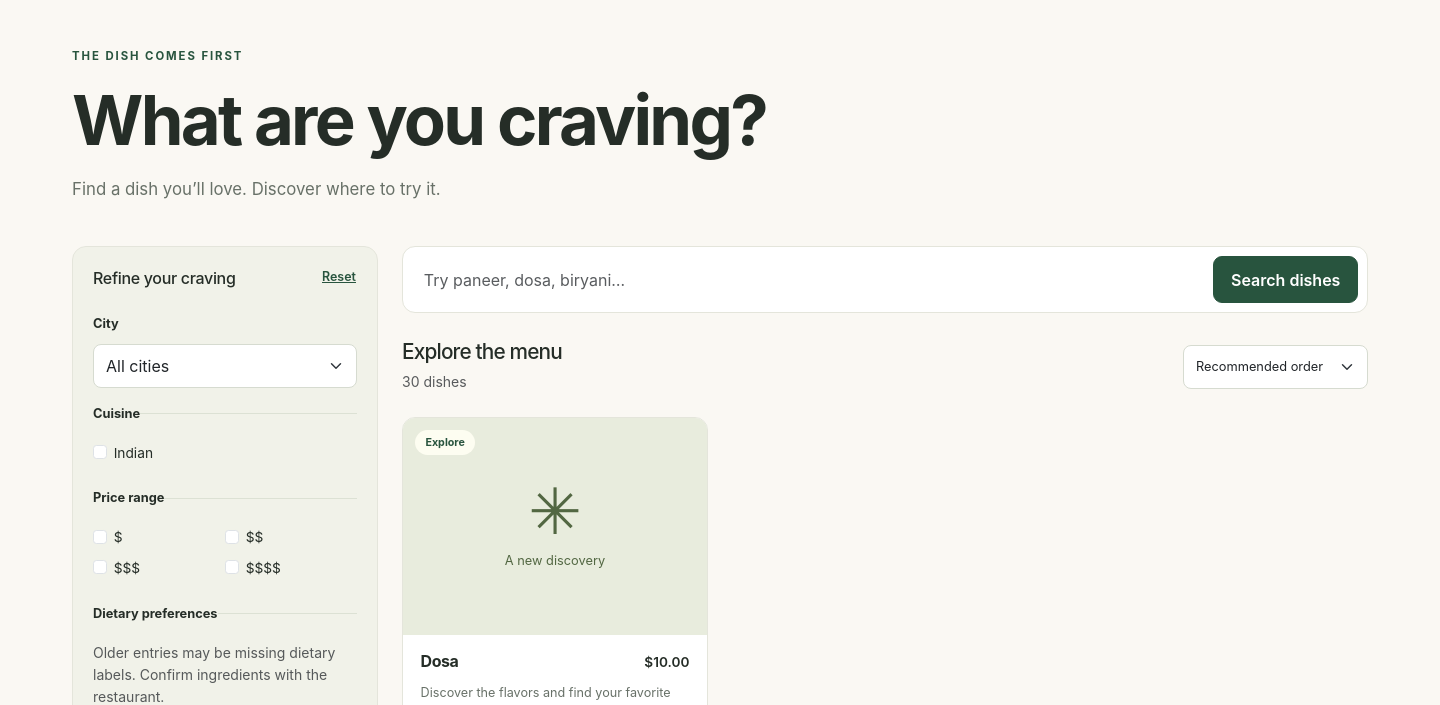
search and filters persist while paginating
Later steps or results of the test are not shown.
expect the heading "Dosa" is shown: met, box [421,652,458,671]
In the field named "Search dishes": (807, 280) [412,256,1202,303], type "dosa"
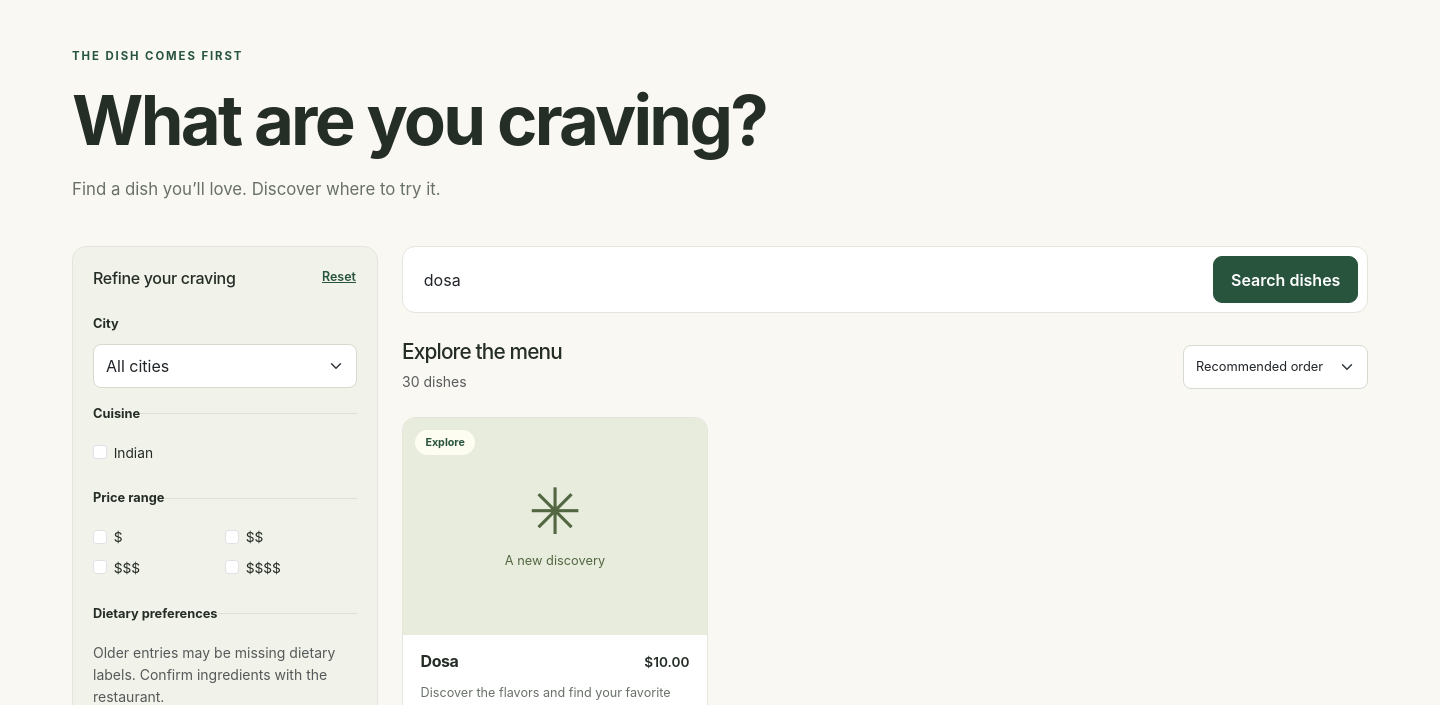
Click the button "Search dishes": (1286, 280) [1213,256,1358,303]
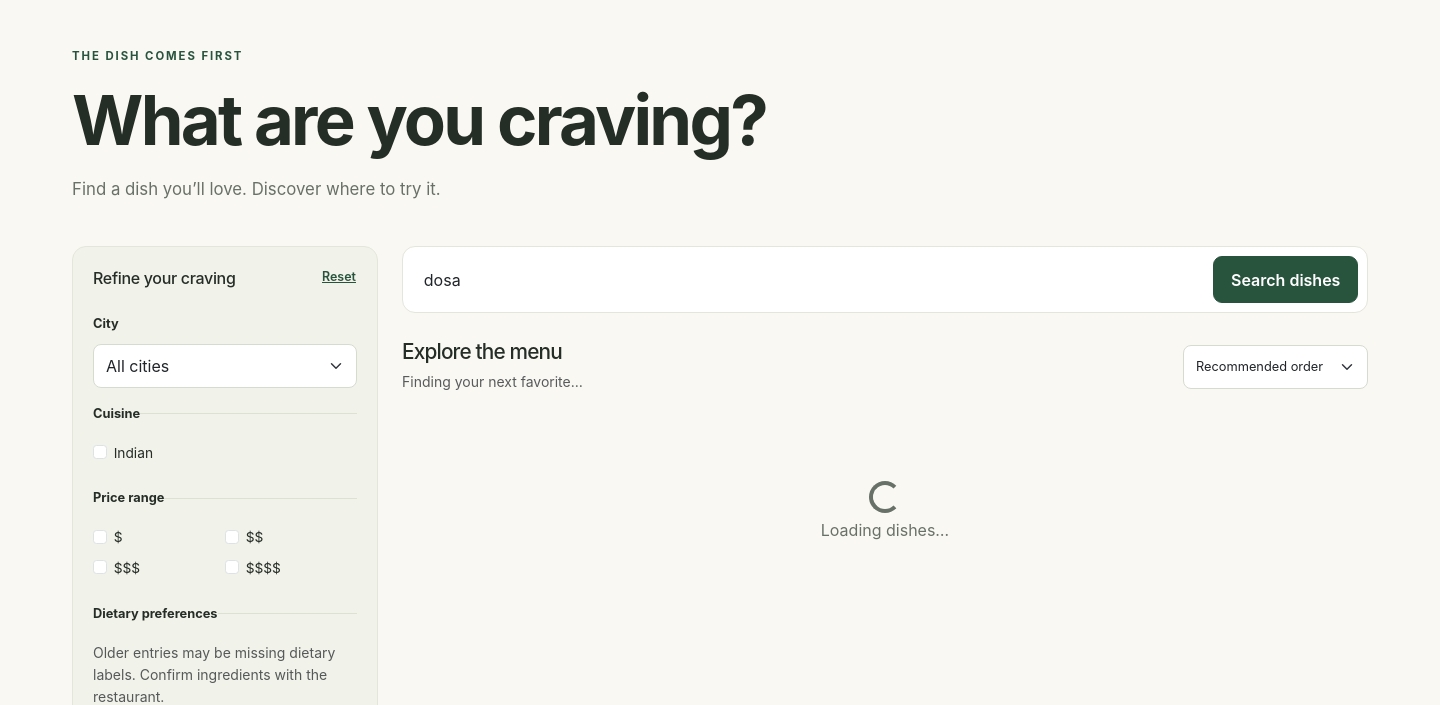
Select "Seattle" in the dropdown labelled "City": (225, 366) [93,344,357,388]
(page scrolled)
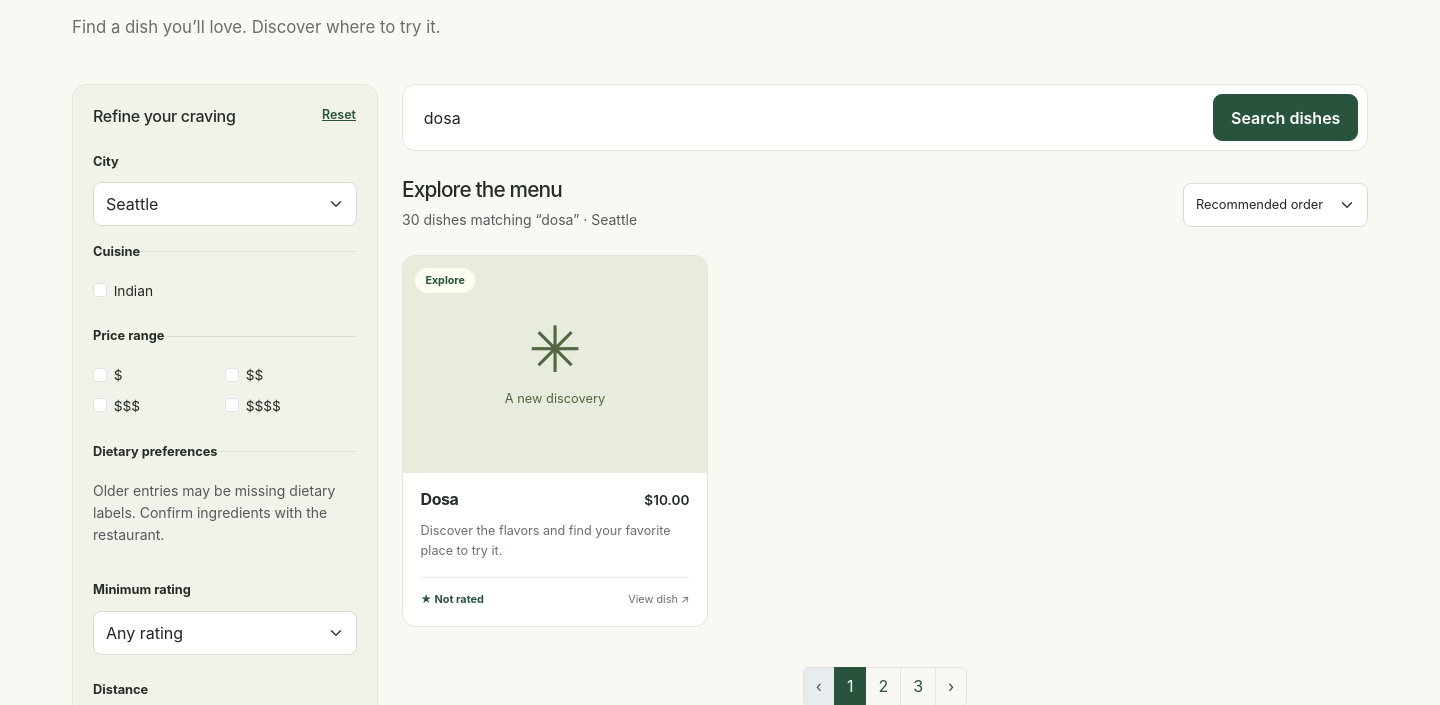
expect the heading "Dosa" is shown: met, box [421,490,458,509]
